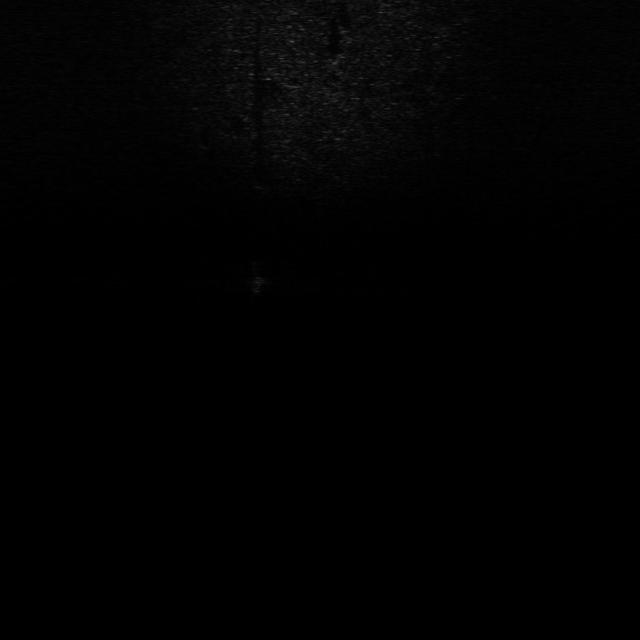human body: (240, 257, 270, 302)
